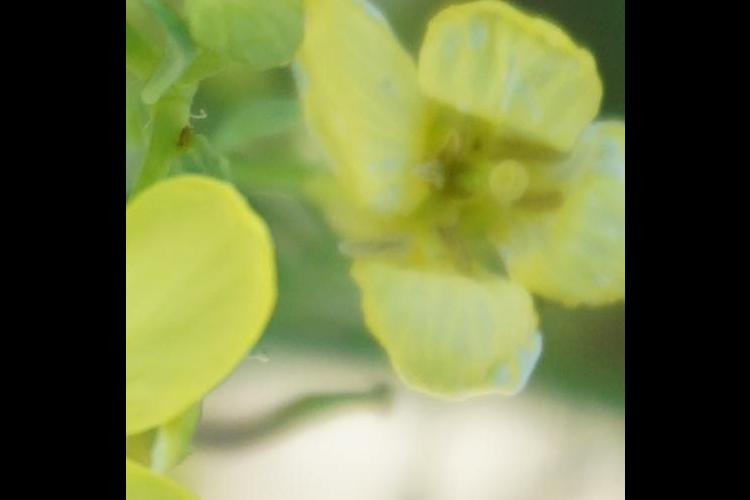bud: (178, 1, 314, 83)
yellow: (300, 1, 618, 413), (128, 175, 282, 500)
